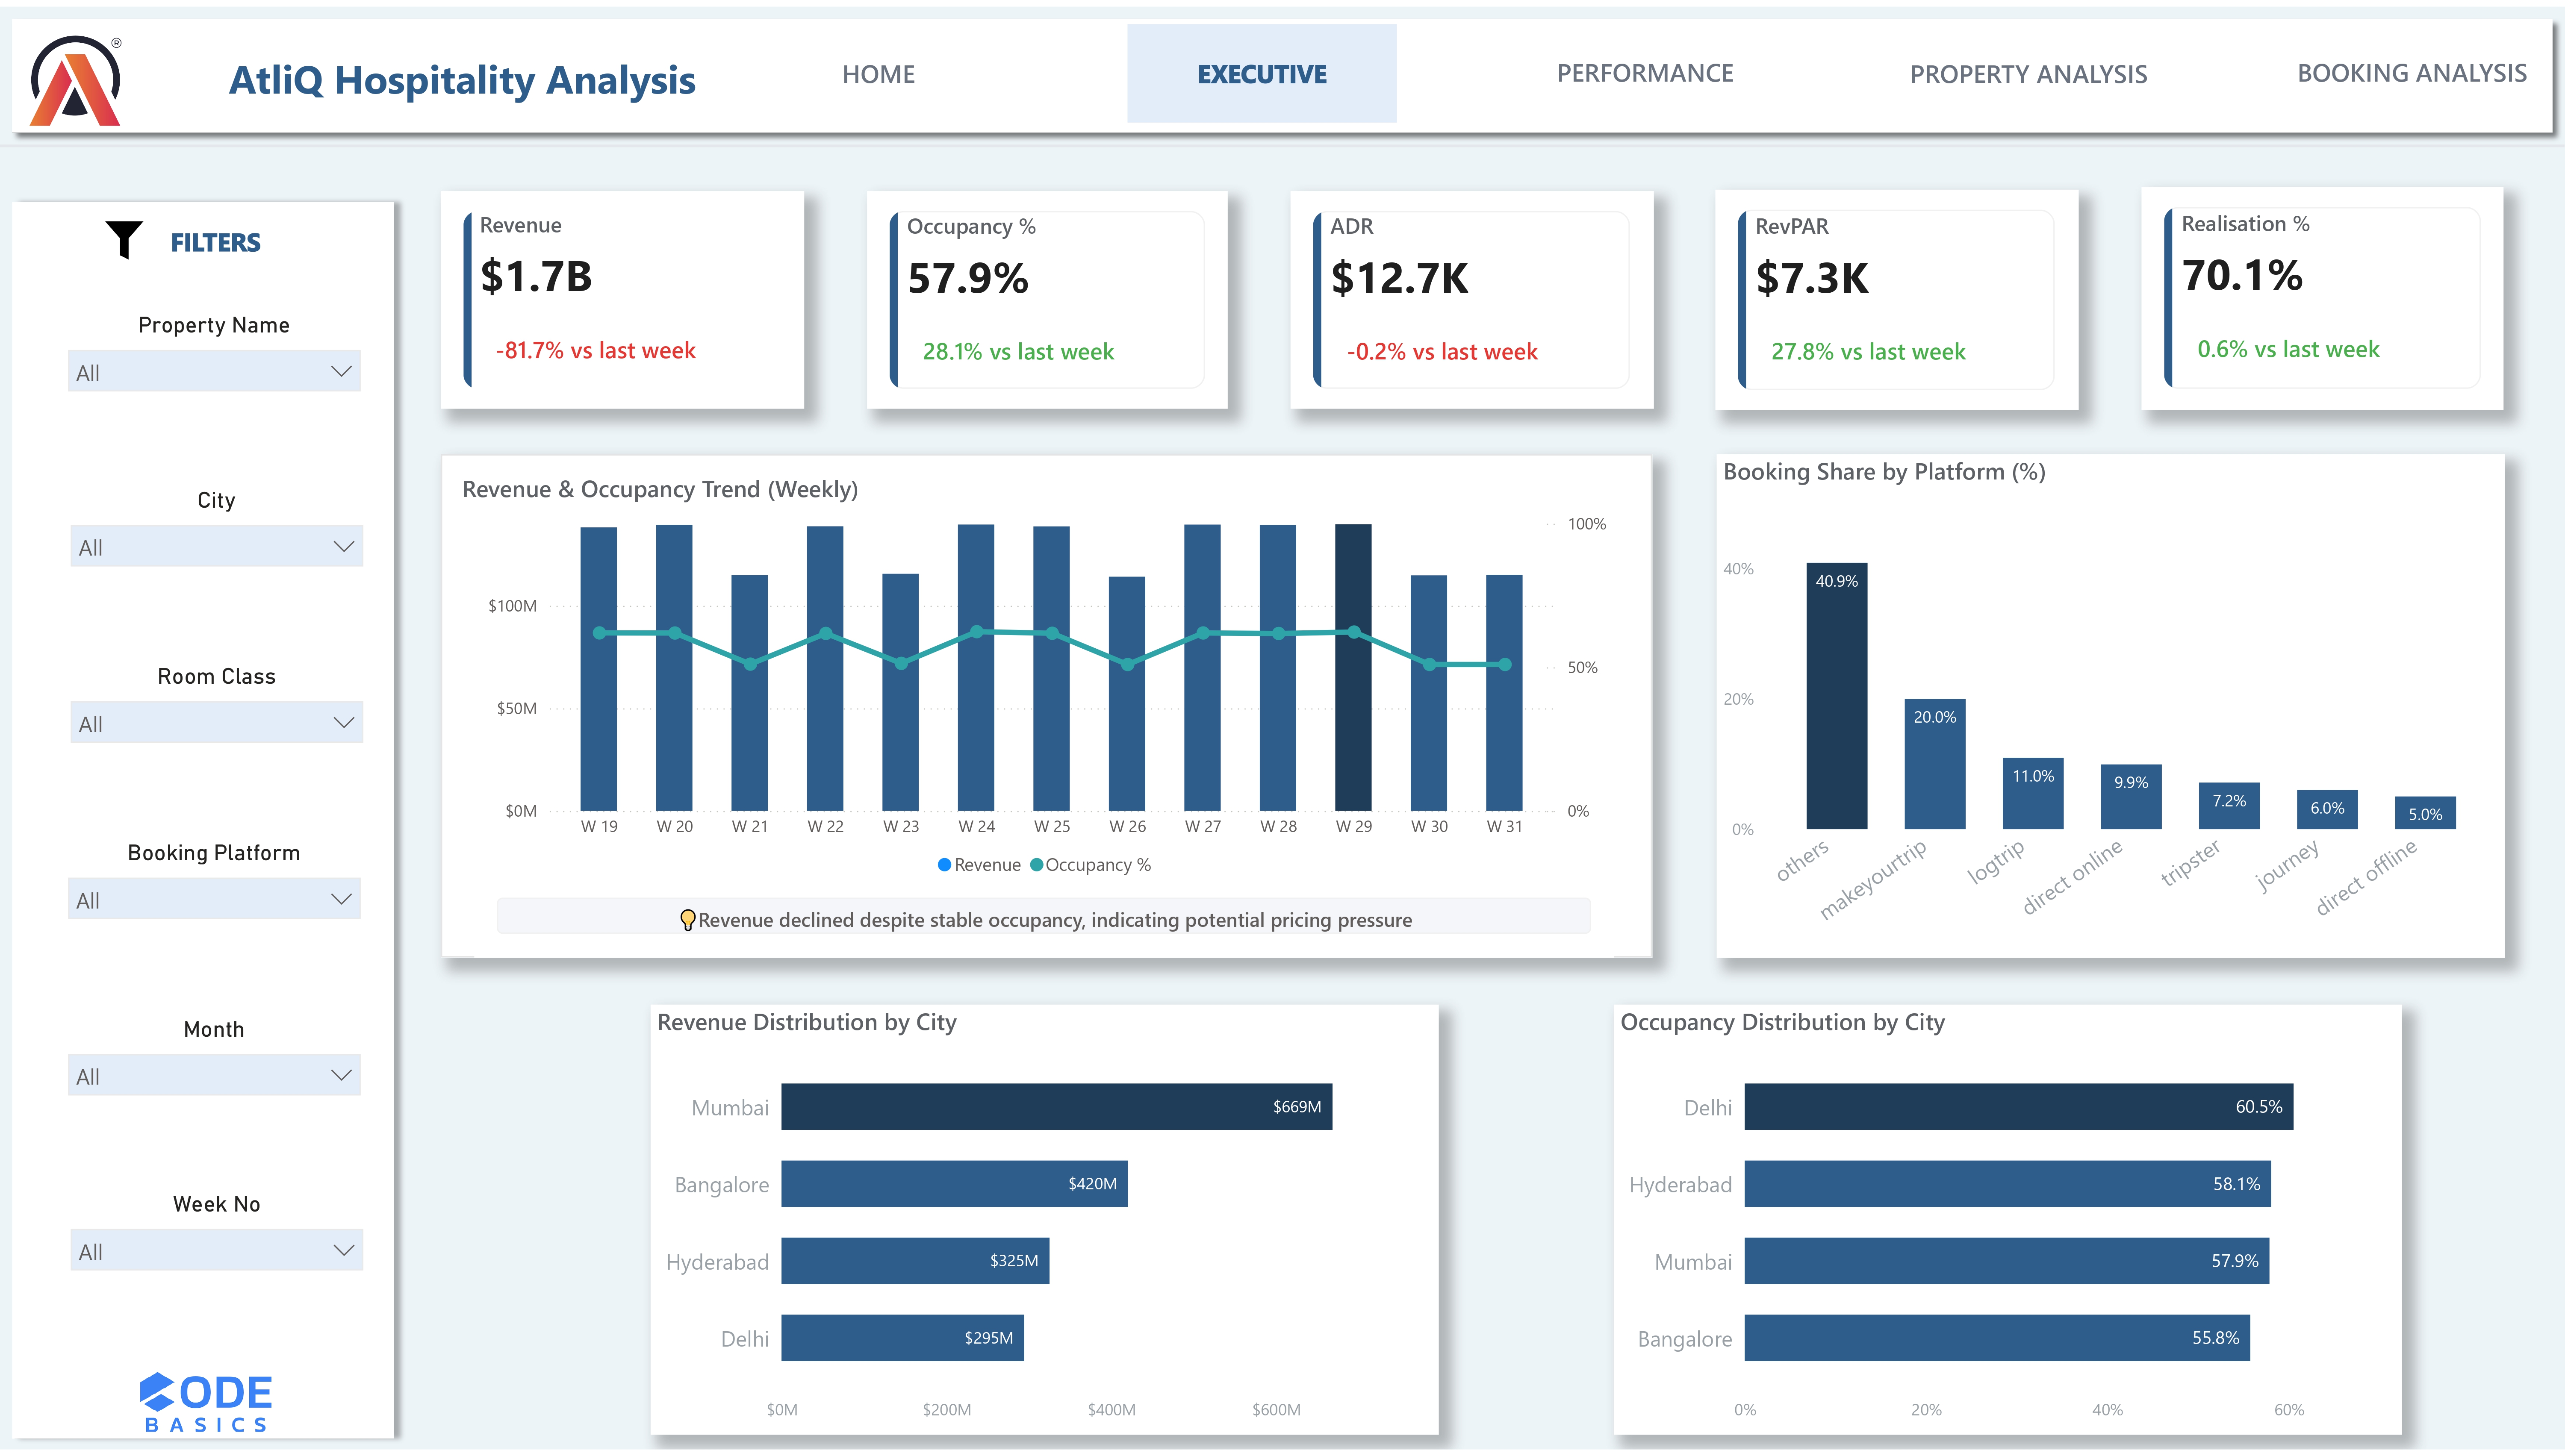

The page's visual inventory and layout, read from the dashboard file:
{"tool":"powerbi","page":{"name":"Executive View","canvas":[1920,1080],"ordinal":1},"visuals":[{"type":"shape","title":"Left_Filter Pane","box":[0,137,304,944],"z":0},{"type":"shape","title":"Top_Nav Bar","box":[0,0,1919.7,103.3],"z":1000},{"type":"shape","title":"Background: Trend","box":[330,335,906.7,376.7],"z":2000},{"type":"shape","title":"Divider Line","box":[0,86.9,1919.7,34.4],"z":3000},{"type":"image","title":"Atliq Logo","box":[21.3,13.1,72.1,83.6],"z":4000},{"type":"image","title":"CB Logo","box":[93.3,1021.7,121.7,45],"z":5000},{"type":"cardVisual","title":"Text: Trrend Visual","fields":{"Data":["Key Measures.Trend Visual Text"]},"box":[355,650,853.3,61.7],"z":6000},{"type":"shape","title":"Title text","box":[160.7,13.1,370.5,78.7],"z":7000},{"type":"shape","title":"Filters text","box":[101,156,121,38],"z":8000},{"type":"image","title":"Filter Icon","box":[74,156,38,38],"z":9000},{"type":"slicer","title":"Property Name","fields":{"Values":["dim_hotels.property_name"]},"box":[26.2,217.5,253.8,98.8],"z":10000},{"type":"slicer","title":"Booking Platform","fields":{"Values":["fact_bookings.booking_platform"]},"box":[26.2,612.8,253.8,98.8],"z":11000},{"type":"slicer","title":"Week No","fields":{"Values":["dim_date.week no"]},"box":[27.5,876.2,253.8,98.8],"z":12000},{"type":"slicer","title":"Room Class","fields":{"Values":["dim_rooms.room_class"]},"box":[27.5,481,253.8,98.8],"z":13000},{"type":"slicer","title":"City","fields":{"Values":["dim_hotels.city"]},"box":[27.5,349.2,253.8,98.8],"z":14000},{"type":"slicer","title":"Month","fields":{"Values":["dim_date.mmm yy"]},"box":[26.2,744.5,253.8,98.8],"z":15000},{"type":"actionButton","title":"HOME Button","box":[557.4,13.1,201.6,73.8],"z":16000},{"type":"actionButton","title":"EXECUTIVE Button","box":[844.3,13.1,201.6,73.8],"z":17000},{"type":"actionButton","title":"PERFORMANCE Button","box":[1131.1,9.8,201.6,77],"z":18000},{"type":"actionButton","title":"PROPERTY Button","box":[1418,13.1,201.6,73.8],"z":19000},{"type":"actionButton","title":"BOOKING Button","box":[1704.9,11.5,201.6,75.4],"z":20000},{"type":"cardVisual","title":"KPI: Revenue","fields":{"Data":["Key Measures.Revenue Display"]},"box":[330,138.3,271.7,163.3],"z":21000},{"type":"cardVisual","title":"KPI: Occupancy %","fields":{"Data":["Key Measures.Occupancy %"]},"box":[648.7,138.3,270,163.3],"z":22000},{"type":"cardVisual","title":"KPI: ADR","fields":{"Data":["Key Measures.ADR (Average Daily Rate)"]},"box":[965.8,138.3,271.7,163.3],"z":23000},{"type":"cardVisual","title":"KPI: RevPAR","fields":{"Data":["Key Measures.RevPAR (Revenue Per Available Room)"]},"box":[1284.5,136.7,271.7,165],"z":24000},{"type":"cardVisual","title":"KPI: Realisation %","fields":{"Data":["Key Measures.Realisation %"]},"box":[1603.2,134.9,271.4,166.7],"z":25000},{"type":"lineClusteredColumnComboChart","title":"Weekly Trend Visual","fields":{"Category":["dim_date.week no"],"Y":["Key Measures.Total Revenue"],"Y2":["Key Measures.Occupancy %"]},"box":[360,373.3,848.3,288.3],"z":26000},{"type":"shape","title":"Main Trend Visual Title","box":[346,334.9,366.7,49.2],"z":27000},{"type":"clusteredBarChart","title":"Occupancy Distribution by City","fields":{"Category":["dim_hotels.city"],"Y":["Key Measures.Occupancy %"]},"box":[1208.3,746.7,590,321.7],"z":28000},{"type":"clusteredBarChart","title":"Revenue Distribution by City","fields":{"Category":["dim_hotels.city"],"Y":["Key Measures.Total Revenue"]},"box":[486.7,746.7,590,321.7],"z":29000},{"type":"clusteredColumnChart","title":"Booking Share by Platform (%)","fields":{"Category":["fact_bookings.booking_platform"],"Y":["Key Measures.Booking % by Platform"]},"box":[1285,335,590,376.7],"z":30000}]}

Visuals, with their boxes in screenshot pixels (x1, y1, x2, y2), scaled from the page's 1920x1080 canvas onto the 2565x1456 screenshot:
"Left_Filter Pane" shape: Rect(0, 185, 406, 1456)
"Top_Nav Bar" shape: Rect(0, 0, 2565, 139)
"Background: Trend" shape: Rect(441, 452, 1652, 959)
"Divider Line" shape: Rect(0, 117, 2565, 164)
"Atliq Logo" image: Rect(29, 18, 125, 130)
"CB Logo" image: Rect(125, 1377, 287, 1438)
"Text: Trrend Visual" cardVisual: Rect(474, 877, 1614, 959)
"Title text" shape: Rect(215, 18, 710, 124)
"Filters text" shape: Rect(135, 210, 297, 262)
"Filter Icon" image: Rect(99, 210, 150, 262)
"Property Name" slicer: Rect(35, 293, 374, 427)
"Booking Platform" slicer: Rect(35, 826, 374, 959)
"Week No" slicer: Rect(37, 1181, 376, 1315)
"Room Class" slicer: Rect(37, 648, 376, 782)
"City" slicer: Rect(37, 471, 376, 604)
"Month" slicer: Rect(35, 1004, 374, 1137)
"HOME Button" actionButton: Rect(745, 18, 1014, 117)
"EXECUTIVE Button" actionButton: Rect(1128, 18, 1397, 117)
"PERFORMANCE Button" actionButton: Rect(1511, 13, 1781, 117)
"PROPERTY Button" actionButton: Rect(1894, 18, 2164, 117)
"BOOKING Button" actionButton: Rect(2278, 15, 2547, 117)
"KPI: Revenue" cardVisual: Rect(441, 186, 804, 406)
"KPI: Occupancy %" cardVisual: Rect(867, 186, 1227, 406)
"KPI: ADR" cardVisual: Rect(1290, 186, 1653, 406)
"KPI: RevPAR" cardVisual: Rect(1716, 184, 2079, 407)
"KPI: Realisation %" cardVisual: Rect(2142, 182, 2504, 406)
"Weekly Trend Visual" lineClusteredColumnComboChart: Rect(481, 503, 1614, 892)
"Main Trend Visual Title" shape: Rect(462, 451, 952, 518)
"Occupancy Distribution by City" clusteredBarChart: Rect(1614, 1007, 2403, 1440)
"Revenue Distribution by City" clusteredBarChart: Rect(650, 1007, 1439, 1440)
"Booking Share by Platform (%)" clusteredColumnChart: Rect(1717, 452, 2505, 959)
